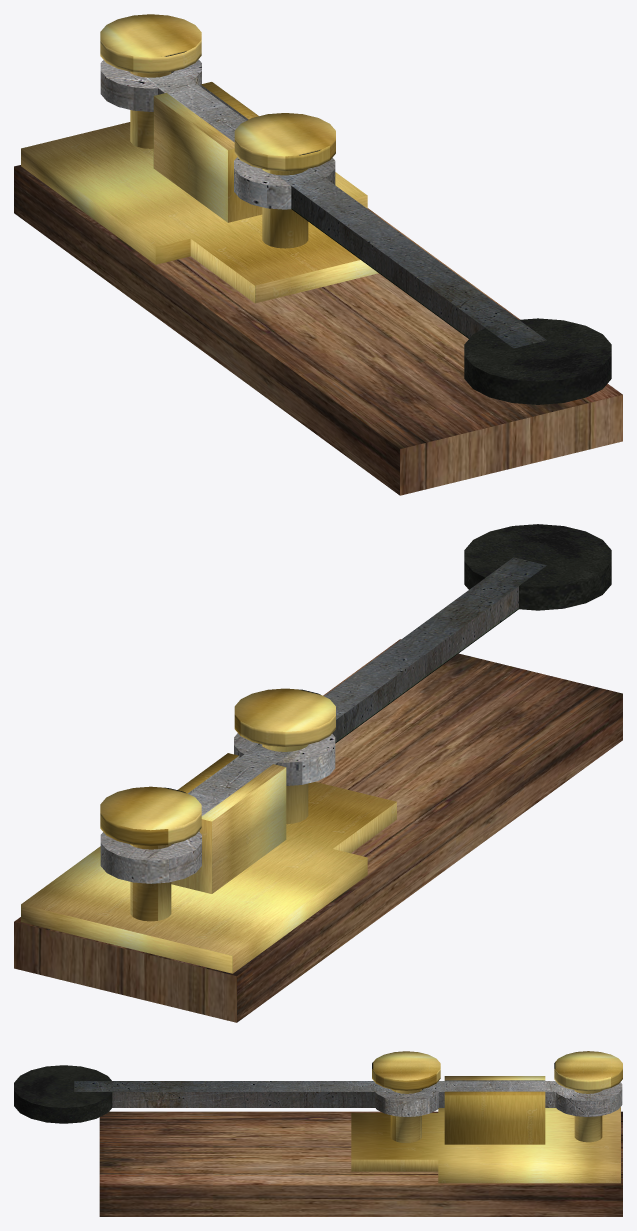
File: morse-code-telegraph.FBX
3 views of the same model, one above another, from view 1: azimuth 30°, elevation 25°; view 2: azimuth 150°, elevation 25°; view 3: azimuth 270°, elevation 25° (orthographic). The views are drawn at different scales.
Visible parts, largest first — view 1: Object001; view 2: Object001; view 3: Object001.
Part boxes in pixels (x1,y1,x2,y2): Object001: [14, 14, 622, 495]; Object001: [14, 524, 622, 1022]; Object001: [14, 1051, 622, 1216].
Size of the model in its own units: 20 by 14.46 by 69.84.
Materials: 1 (1 with a texture image).
